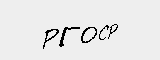Г: (60, 26, 81, 46)
О: (81, 24, 99, 46)
Р: (42, 27, 60, 49), (108, 23, 120, 39)
С: (100, 23, 108, 41)
